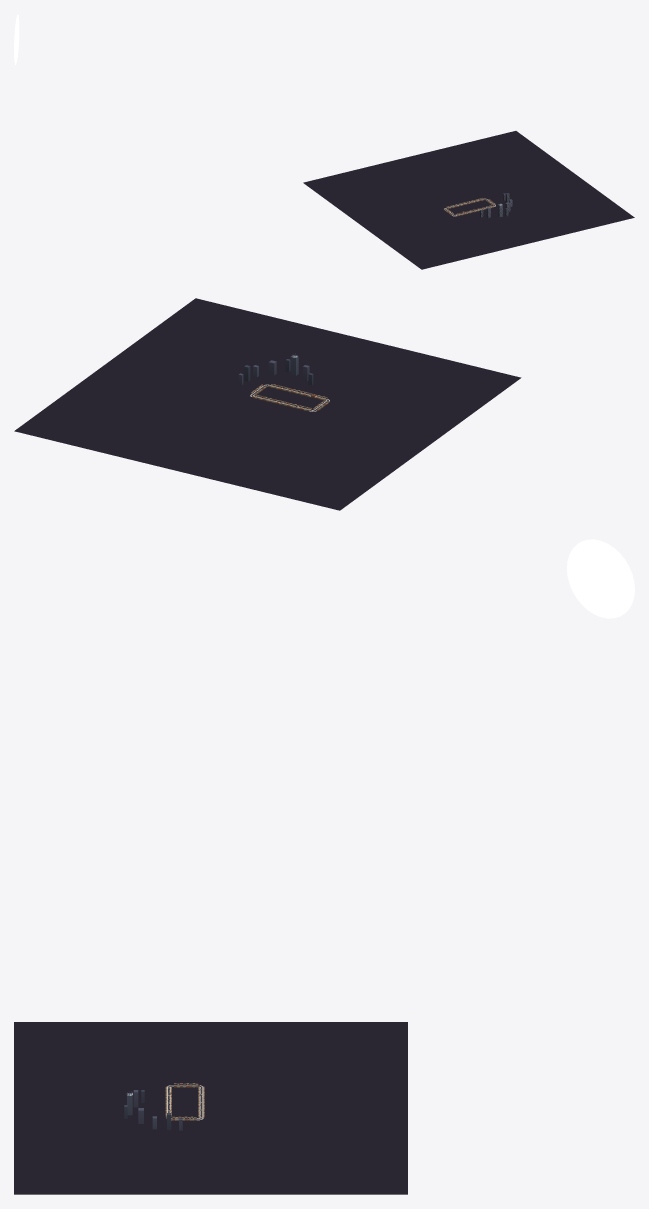
File: austin.glb
3 renders of one model, top to bottom at view 1: azimuth 30°, elevation 25°; view 2: azimuth 150°, elevation 25°; view 3: azimuth 270°, elevation 25°, orthographic. The views are drawn at different scales.
Visible parts, largest first — view 1: Land_023; view 2: Land_023, Peaks; view 3: Land_023, Sun.
Boxes of the visible parts, x1,y1,x2,y2 form: Land_023: (303,131,634,269); Land_023: (14,298,521,510); Peaks: (238,355,313,385); Land_023: (14,1022,407,1194); Sun: (567,539,634,618).
Size of what is drawn, in the model's own units: 6176 by 2328 by 4412.
